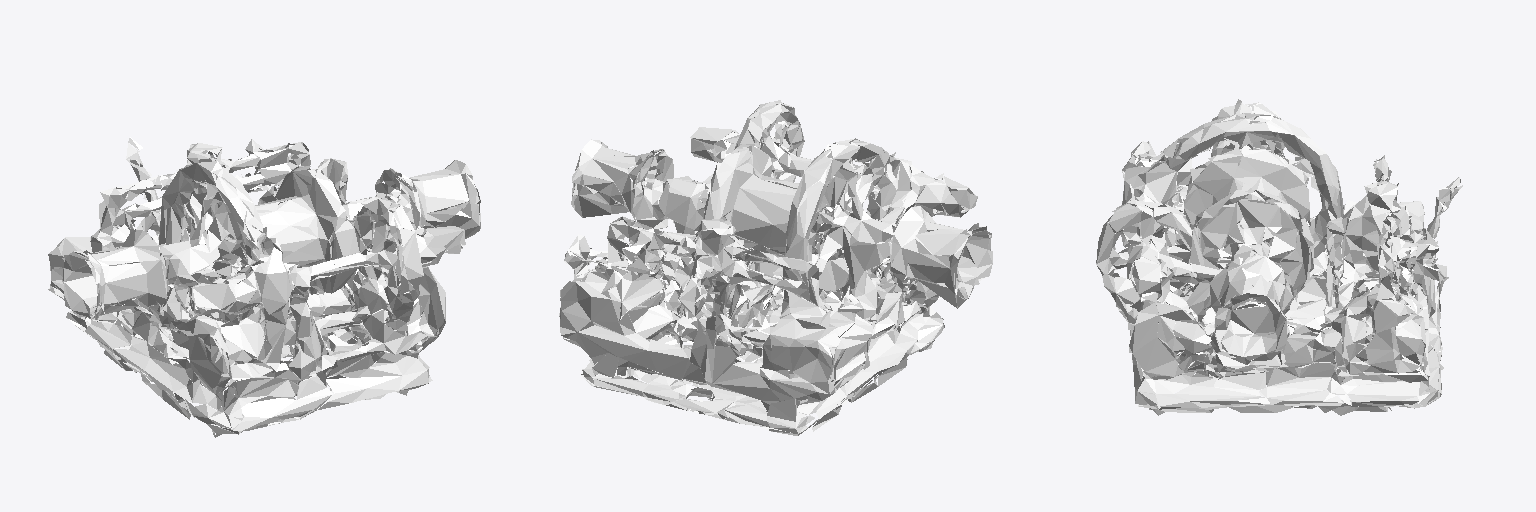
Rendered from blue-machine-no-base-10k.obj.
3 views of the same model, side by side, from view 1: azimuth 30°, elevation 25°; view 2: azimuth 150°, elevation 25°; view 3: azimuth 270°, elevation 25° (orthographic).
Visible parts, largest first — view 1: textured; view 2: textured; view 3: textured.
Part boxes in pixels (x1,y1,x2,y2): textured: (48,137,480,437); textured: (559,100,992,435); textured: (1096,99,1462,415).
Size of the model in its own units: 5.23 by 2.97 by 4.27.